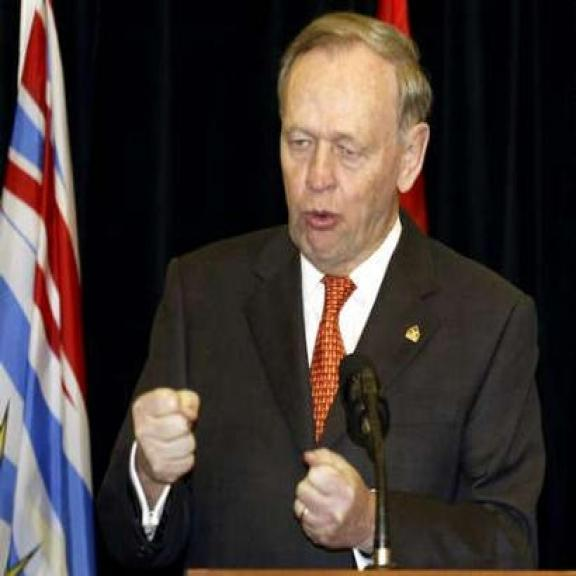face: (279, 56, 433, 267)
